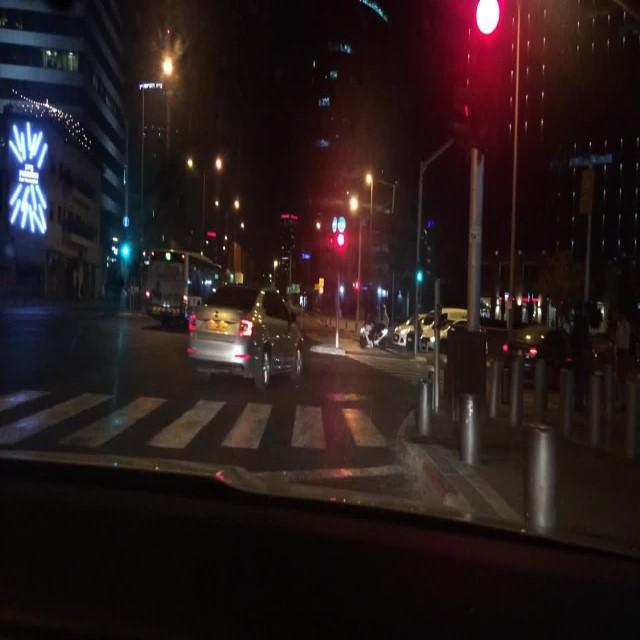normal: (170, 256, 311, 399)
